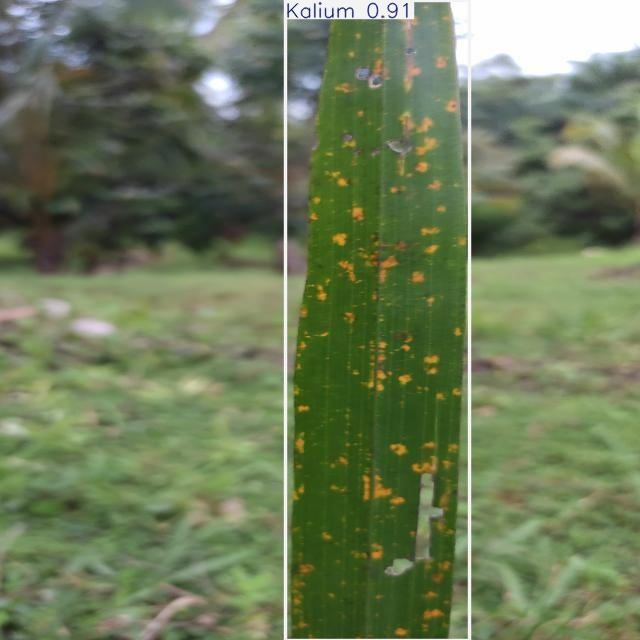Kalium: (285, 0, 469, 640)
